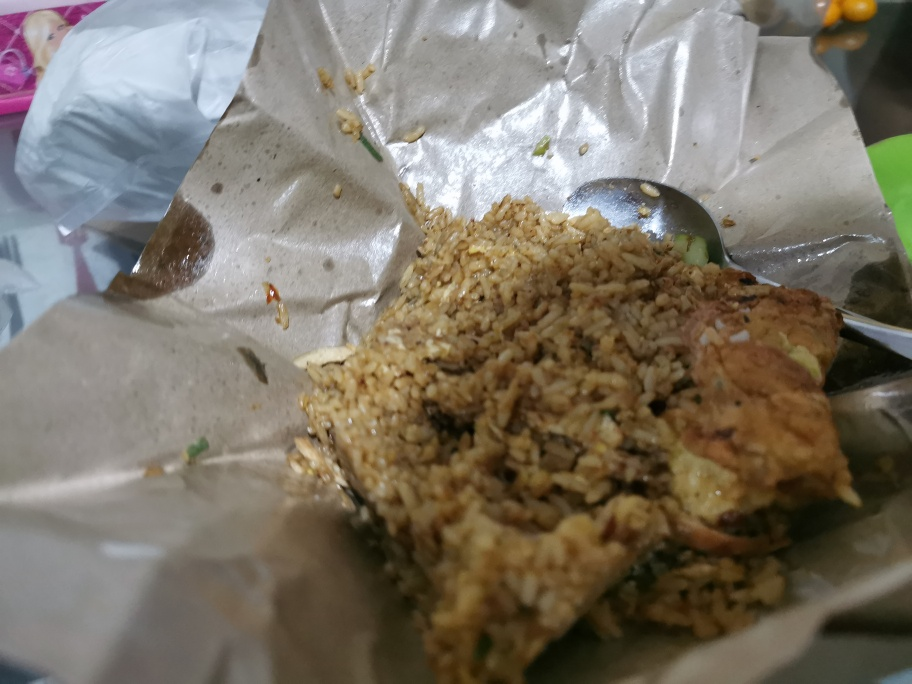nasi goreng: (334, 200, 833, 652)
